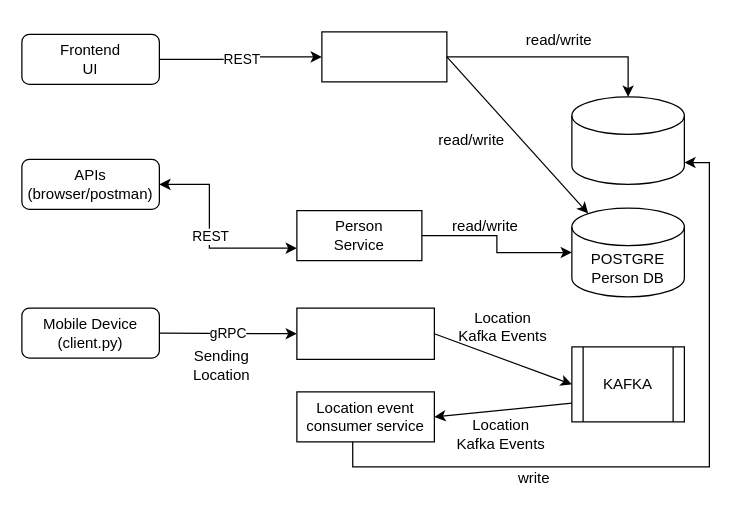
Image size: 741x518. Some labels were removed from this diagram. Here are the shapes that lost their labels. From the top down, the box of each, then its label:
(321, 31, 447, 82): Connection Service
(571, 96, 684, 184): POSTGRE Location DB
(296, 307, 434, 359): Location event producer service
